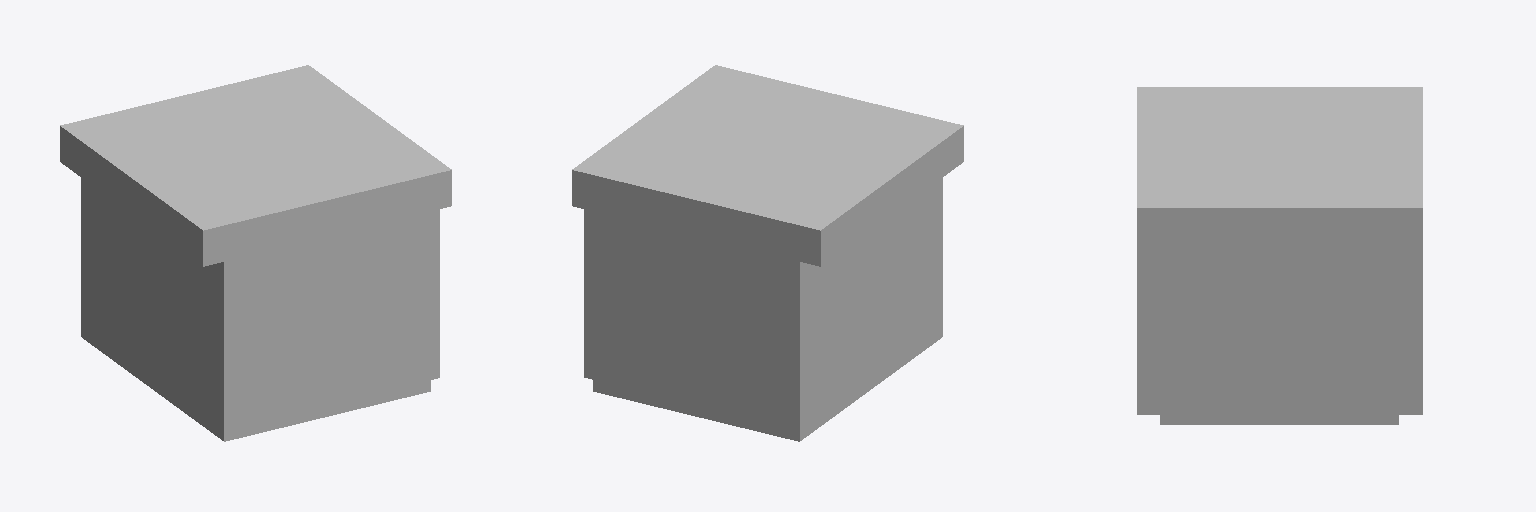
The model's file is Bench 3 way 1.obj.
3 renders of one model, left to right at view 1: azimuth 30°, elevation 25°; view 2: azimuth 150°, elevation 25°; view 3: azimuth 270°, elevation 25°, orthographic.
Parts seen in each view (by area): view 1: Bench_3_way; view 2: Bench_3_way; view 3: Bench_3_way.
Boxes of the visible parts, x1,y1,x2,y2 form: Bench_3_way: [60, 65, 451, 441]; Bench_3_way: [572, 65, 963, 441]; Bench_3_way: [1137, 87, 1422, 424].
Bounding box in the file's own units: 8.84 × 7.35 × 8.83.